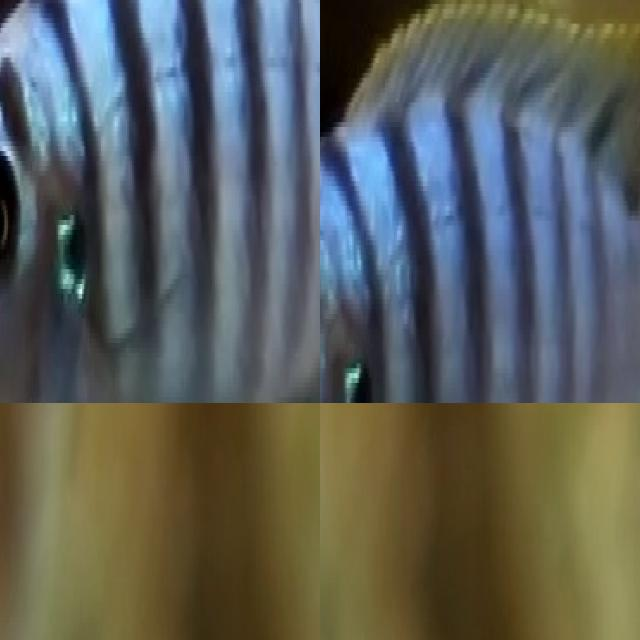fish: (0, 0, 320, 403), (320, 0, 640, 403)
